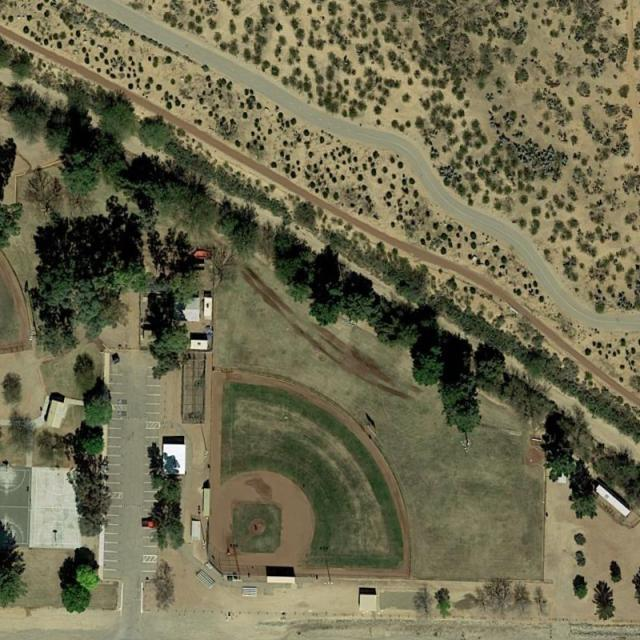vehicle: (142, 522, 159, 529)
